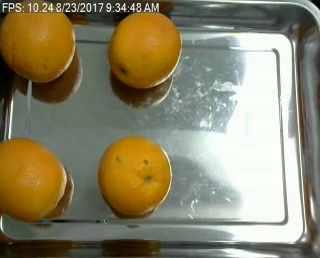Orange: (97, 136, 173, 218), (1, 1, 76, 83), (108, 8, 182, 88), (1, 136, 67, 220)
